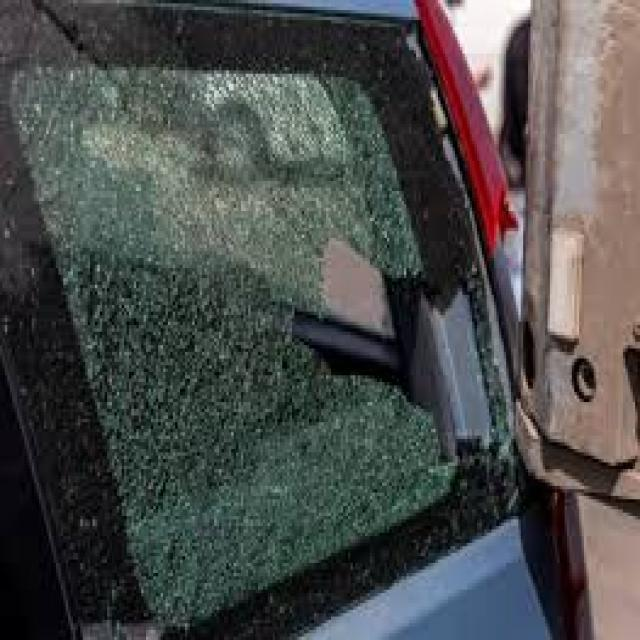damaged-rear-window: (4, 0, 534, 632)
